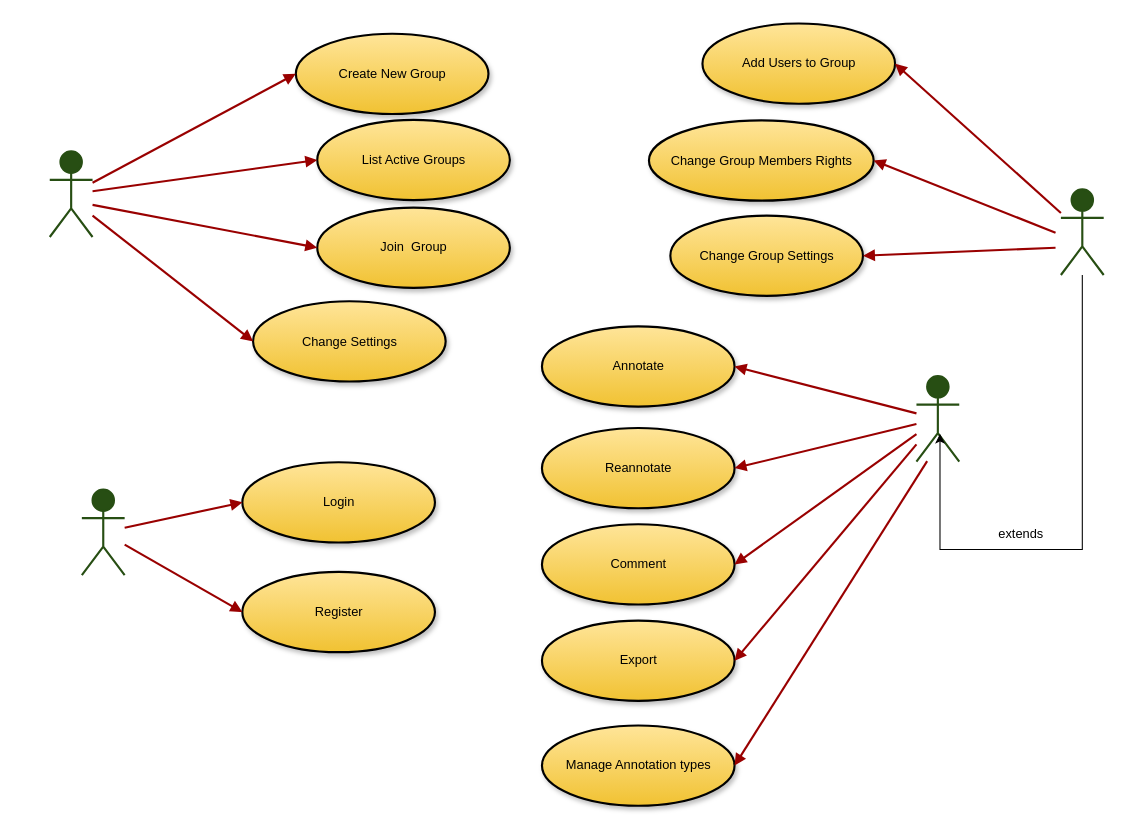
This 1130x832 diagram has some shape labels left out. The shapes that lost their labels are listed below. From the top down, each one's centre as x and y in pixels, then its label:
At point (70, 194): "Registered User".
At point (1081, 232): "Admin".
At point (937, 418): "Group Member".
At point (102, 532): "Unregistered User".
